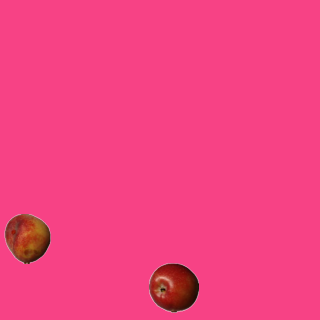Apple Braeburn: (148, 262, 198, 312)
Peach: (2, 213, 52, 263)
